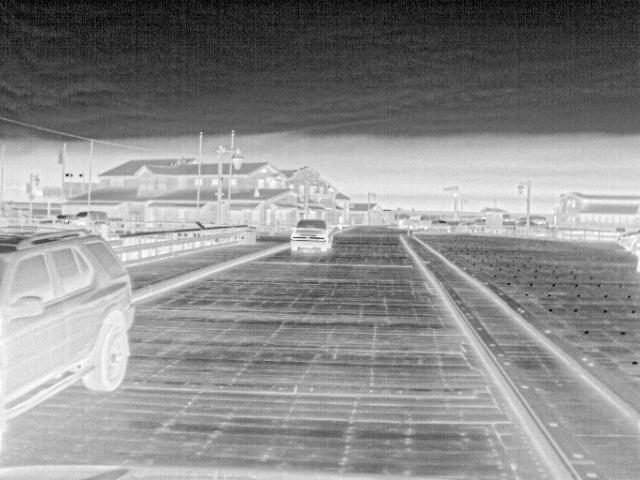car: (2, 225, 138, 438), (288, 216, 335, 252), (396, 213, 432, 232), (88, 208, 122, 222), (431, 220, 452, 232), (69, 210, 86, 221)
person: (334, 212, 347, 232)
